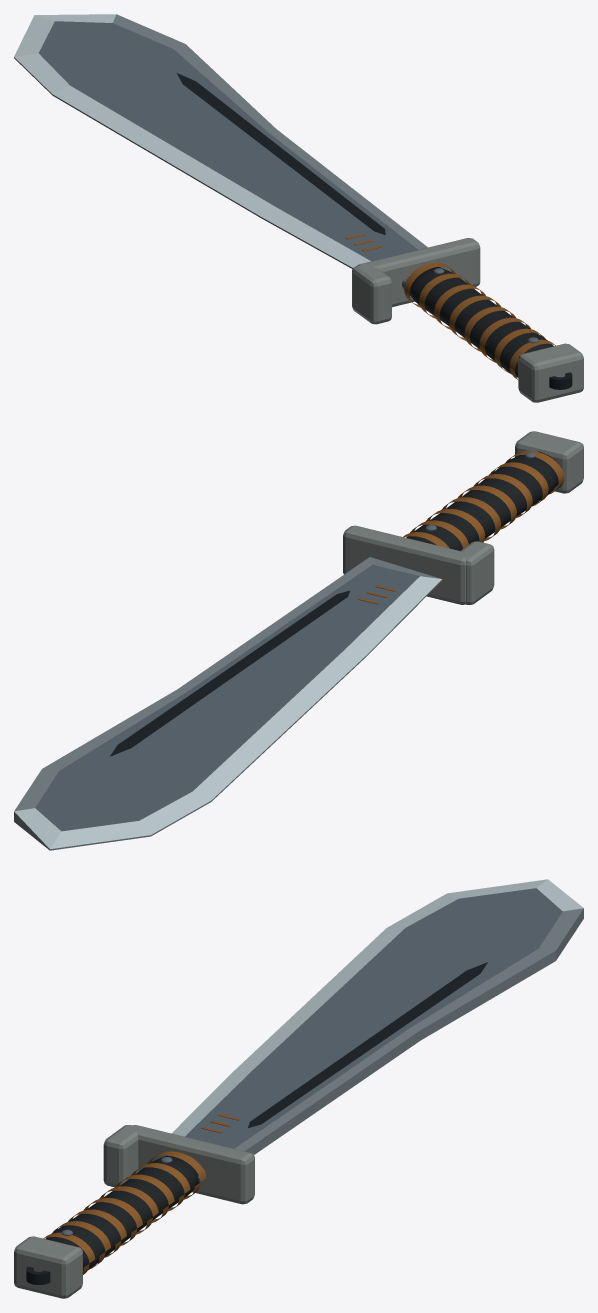
Rendered from WPN_Knife.glb.
The picture shows the model from 3 angles, top to bottom: view 1: azimuth 30°, elevation 25°; view 2: azimuth 150°, elevation 25°; view 3: azimuth 330°, elevation 25°; orthographic projection. The views are drawn at different scales.
Visible parts, largest first — view 1: WPN_Knife; view 2: WPN_Knife; view 3: WPN_Knife.
Part boxes in pixels (bbox=[...]): WPN_Knife: bbox=[14, 14, 583, 402]; WPN_Knife: bbox=[14, 431, 583, 850]; WPN_Knife: bbox=[14, 879, 583, 1298].
Bounding box in the file's own units: 0.125 × 0.036 × 0.746.
